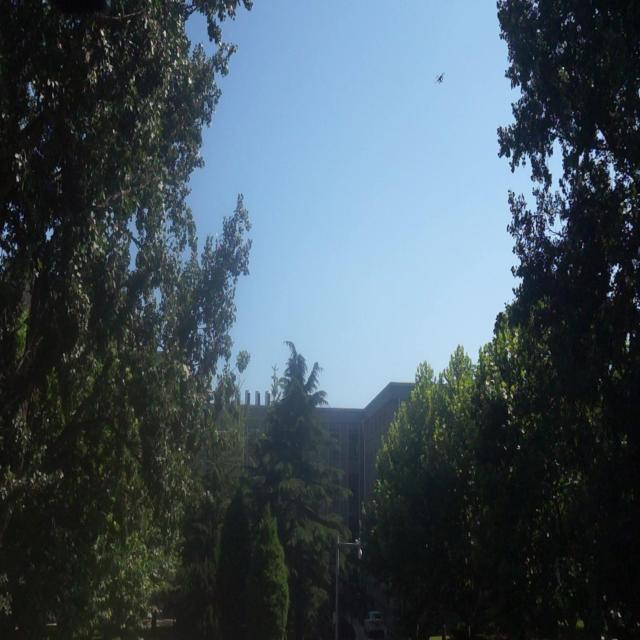drone: (432, 70, 447, 86)
